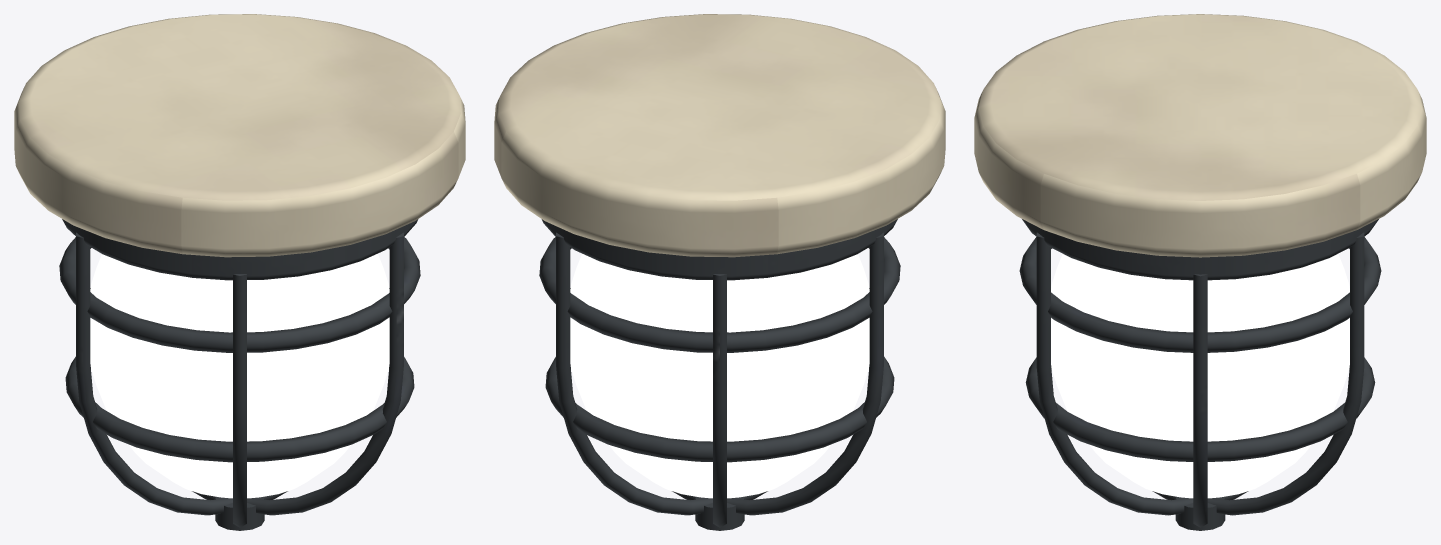
File: CeilingLamp.glb
3 views of the same model, side by side, from view 1: azimuth 30°, elevation 25°; view 2: azimuth 150°, elevation 25°; view 3: azimuth 270°, elevation 25° (orthographic).
Parts seen in each view (by area): view 1: CeilingLamp_Body; view 2: CeilingLamp_Body; view 3: CeilingLamp_Body.
Boxes of the visible parts, x1,y1,x2,y2 form: CeilingLamp_Body: (14, 14, 465, 530); CeilingLamp_Body: (494, 14, 945, 530); CeilingLamp_Body: (974, 14, 1426, 530).
Bounding box in the file's own units: 0.22 × 0.224 × 0.22.
3 materials, 2 textured.
